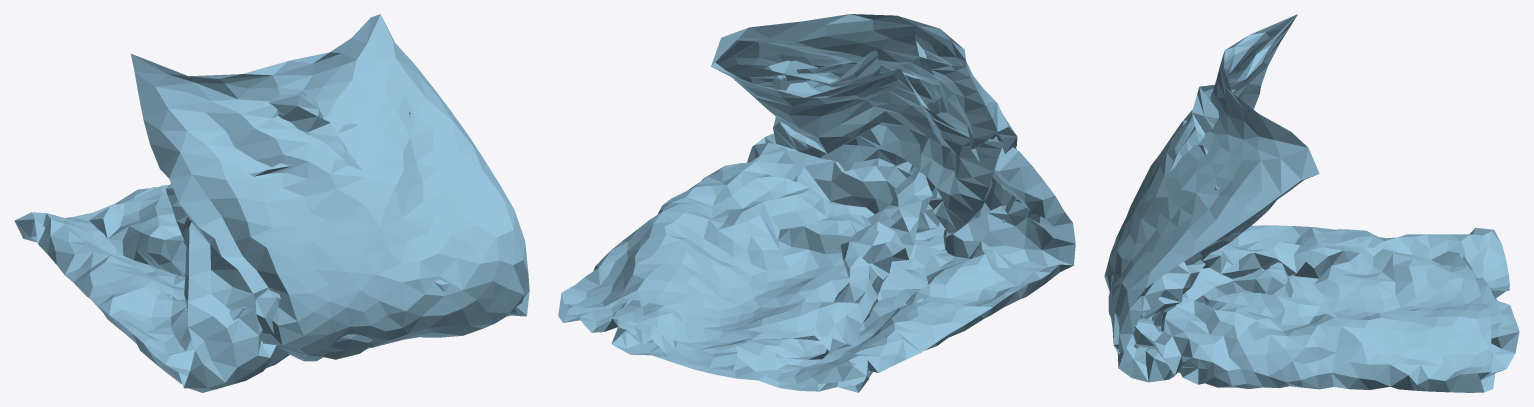
Rendered from frame_13.glb.
3 renders of one model, left to right at view 1: azimuth 30°, elevation 25°; view 2: azimuth 150°, elevation 25°; view 3: azimuth 270°, elevation 25°, orthographic. The views are drawn at different scales.
Parts seen in each view (by area): view 1: frame_13.obj; view 2: frame_13.obj; view 3: frame_13.obj.
Boxes of the visible parts, x1,y1,x2,y2 form: frame_13.obj: (14,14,529,392); frame_13.obj: (558,14,1075,392); frame_13.obj: (1104,14,1519,392).
Size of the model in its own units: 0.9834 by 0.7237 by 1.1.
